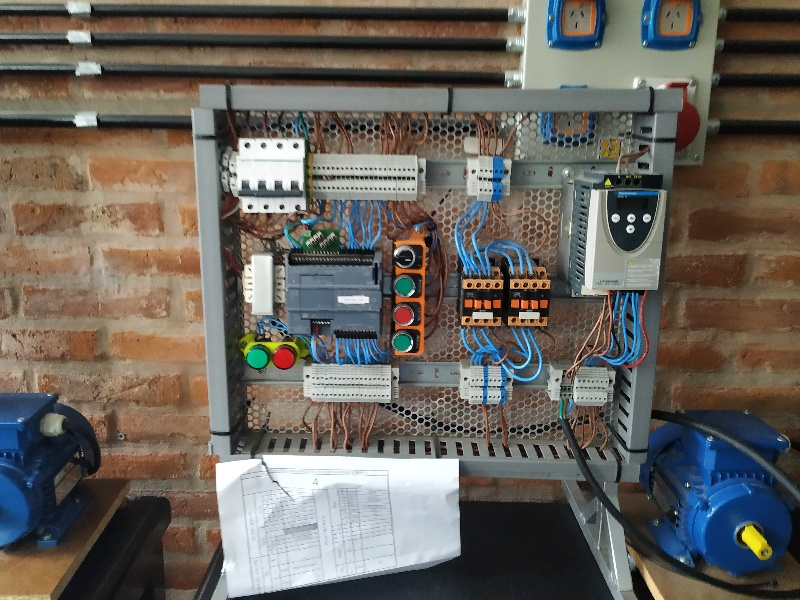Tablero 4: (205, 102, 666, 473)
